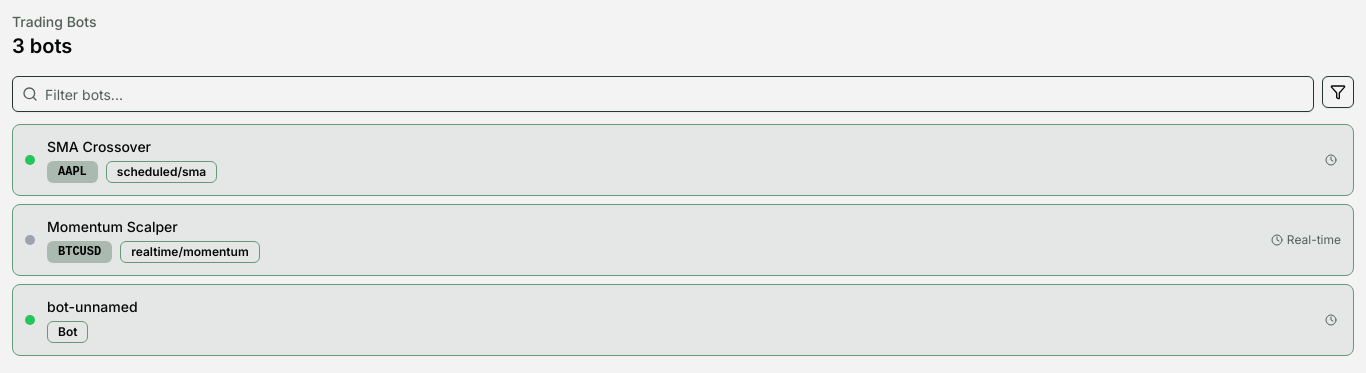
Test: DashboardPage › mobile filtering › narrows the list by name and shows filtered over total
Type "momentum" into the field labelled "Filter bots" at (663, 94), box [12,76,1314,112]
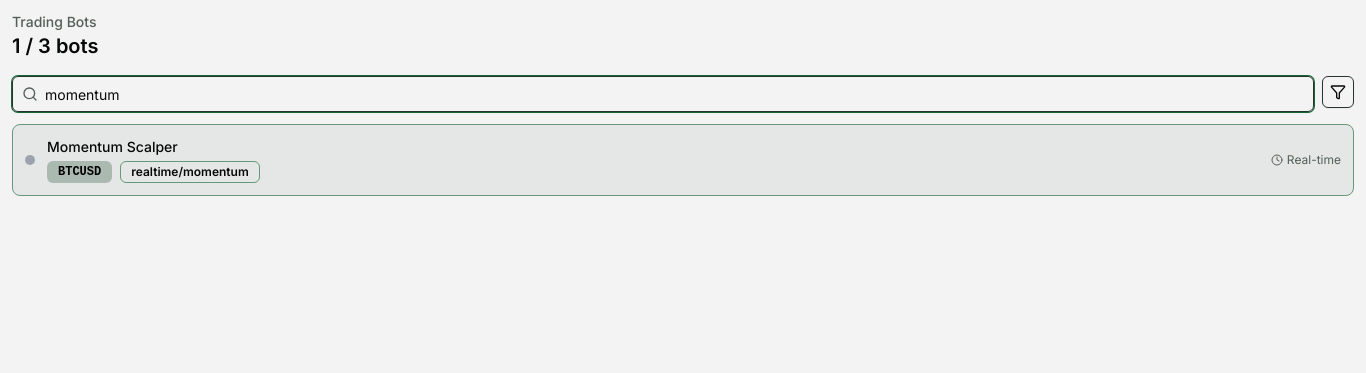
Expected: the button "Momentum Scalper BTCUSD realtime/momentum Real-time" is shown, [12,124,1354,196]
Expected: the text "1 / 3 bots" is shown, [12,34,98,58]
Expected: the button "SMA Crossover" is gone
